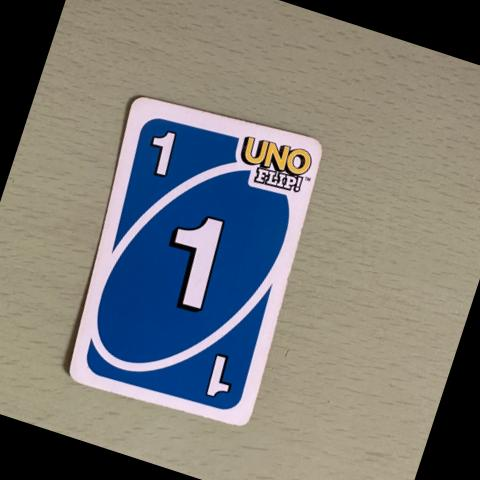lblue-1: (118, 104, 205, 202)
